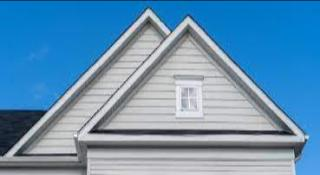Triangle: (91, 25, 295, 132)
